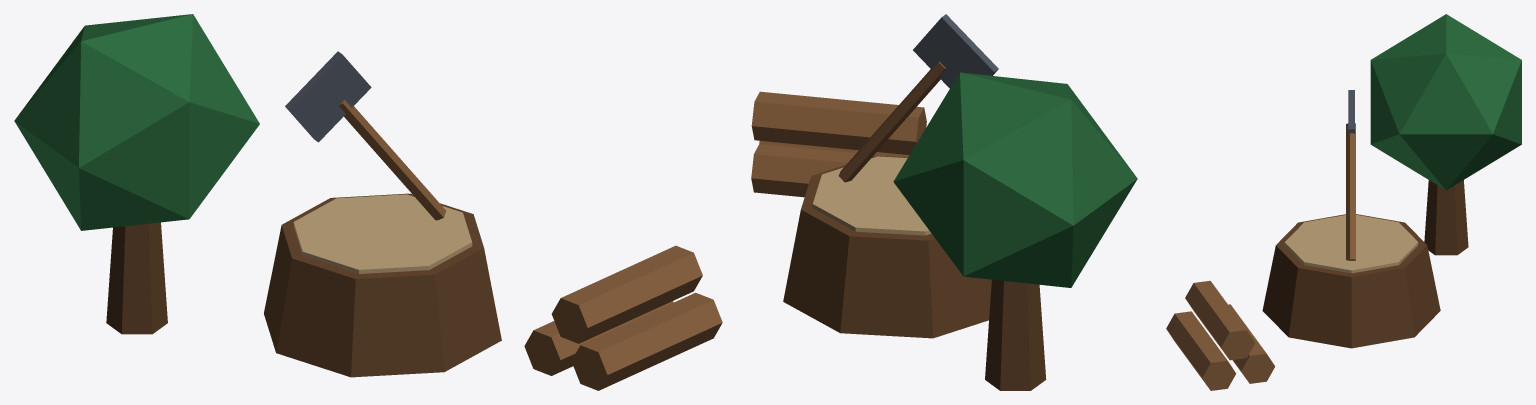
File: woodcutter.glb
The picture shows the model from 3 angles, left to right: view 1: azimuth 30°, elevation 25°; view 2: azimuth 150°, elevation 25°; view 3: azimuth 270°, elevation 25°; orthographic projection. The views are drawn at different scales.
Parts seen in each view (by area): view 1: woodcutter; view 2: woodcutter; view 3: woodcutter.
Part boxes in pixels (x1,y1,x2,y2): woodcutter: (14,14,722,390); woodcutter: (751,14,1137,390); woodcutter: (1166,14,1521,390).
Size of the model in its own units: 0.3802 by 0.2115 by 0.3194.
